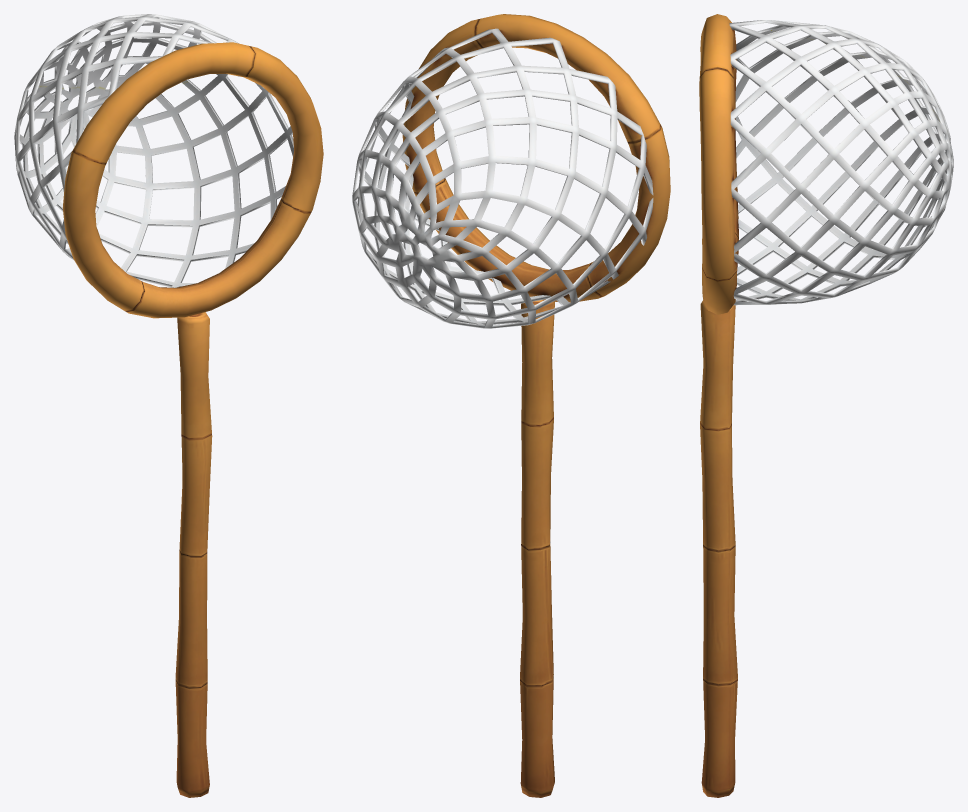
The model's file is net.glb.
3 renders of one model, left to right at view 1: azimuth 30°, elevation 25°; view 2: azimuth 150°, elevation 25°; view 3: azimuth 270°, elevation 25°, orthographic. The views are drawn at different scales.
Parts seen in each view (by area): view 1: Object_2; view 2: Object_2; view 3: Object_2.
Part boxes in pixels (<box>): Object_2: <box>14,14,323,797</box>; Object_2: <box>352,14,670,797</box>; Object_2: <box>699,14,953,797</box>.
Size of the model in its own units: 6.03 by 16.75 by 5.05.
Materials: 1 (1 with a texture image).
